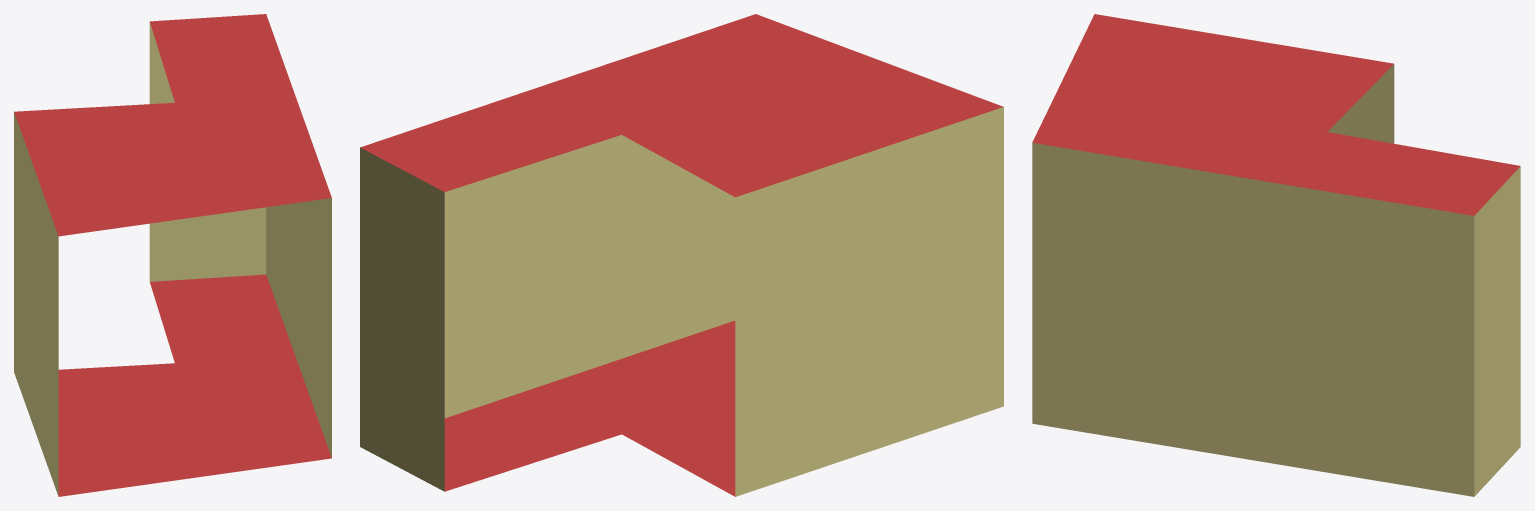
3 renders of one model, left to right at view 1: azimuth 30°, elevation 25°; view 2: azimuth 150°, elevation 25°; view 3: azimuth 270°, elevation 25°, orthographic. The views are drawn at different scales.
Size of the model in its own units: 12.67 by 12.95 by 8.22.
